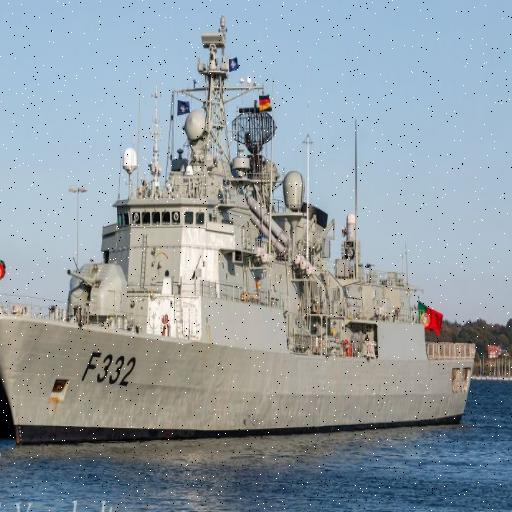Fragata: (1, 14, 479, 446)
